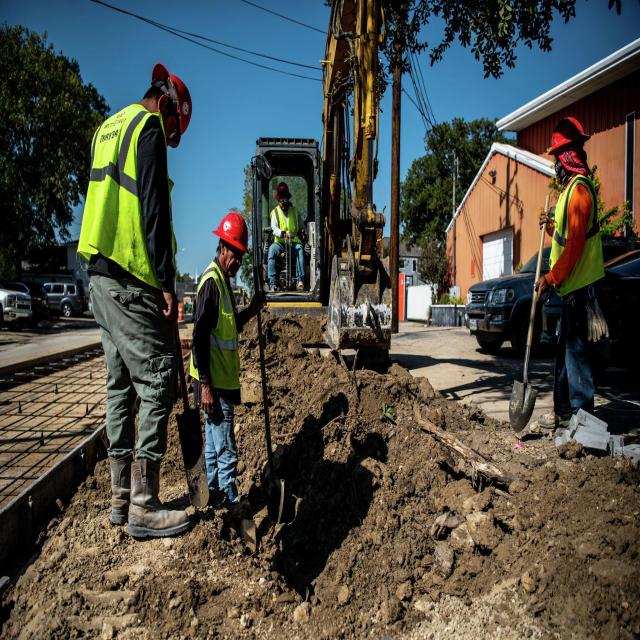Reflective-Jacket: (75, 103, 170, 287), (189, 261, 243, 394), (548, 170, 604, 292), (269, 205, 299, 251)
Safety-Helmet: (149, 60, 194, 143), (546, 112, 592, 154), (213, 209, 250, 253), (274, 182, 292, 199)
